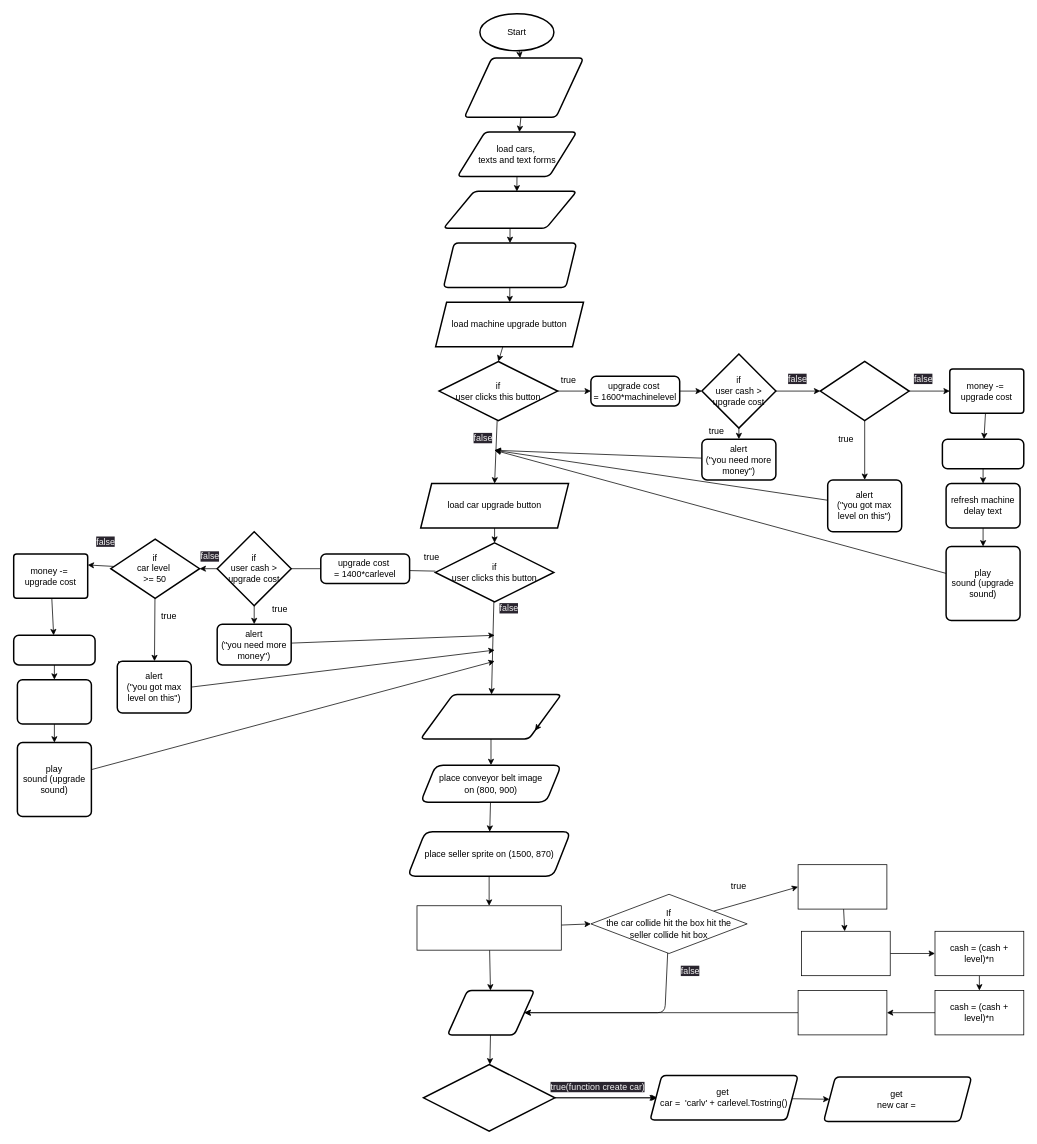
The diagram is 1037 pixels wide and 1144 high, and some of its shapes have lost their labels. Each missing label, with the box of its shape:
add collider between seller and cars: (416, 905, 561, 950)
car level += 1: (13, 634, 95, 665)
destroy car collide: (797, 864, 887, 909)
get car level, machine level, cash from local storage: (463, 57, 584, 118)
get time and delta: (446, 989, 535, 1035)
if machine delay <= 50: (819, 360, 909, 421)
if time%machine delay <= 20: (422, 1063, 555, 1131)
Image and sound load from assets: (442, 190, 577, 229)
machine level -= 50: (941, 438, 1024, 469)
place machine image on (500, 340): (420, 693, 562, 739)
play cash sound: (801, 931, 890, 976)
refresh car level text: (16, 679, 92, 724)
refresh cash text: (797, 990, 887, 1035)
set background image (0,0): (442, 242, 577, 288)
